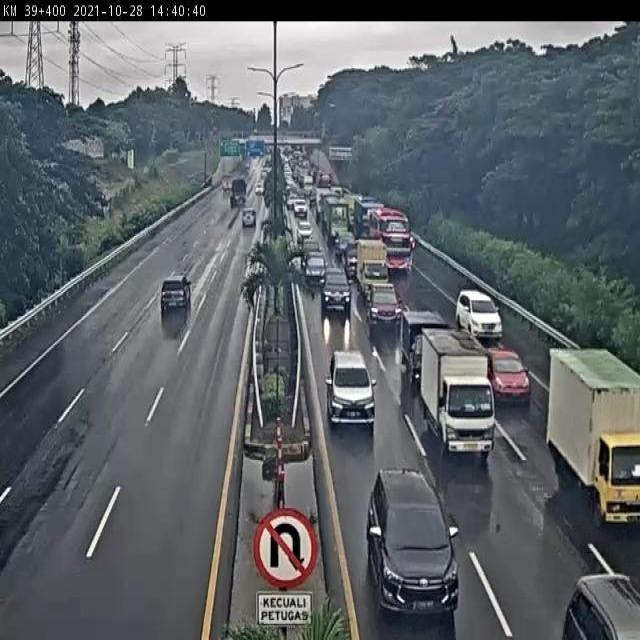bus-l-: (369, 208, 413, 273)
car: (366, 467, 462, 622), (324, 350, 377, 430), (454, 288, 504, 345), (484, 348, 532, 405), (364, 280, 403, 332), (159, 272, 192, 315), (321, 268, 351, 313)
truck-m-: (548, 344, 640, 525)
truck-s-: (418, 329, 495, 459), (401, 310, 448, 382), (355, 235, 388, 296)
